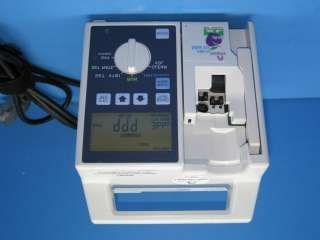plumxl1: (75, 17, 272, 223)
